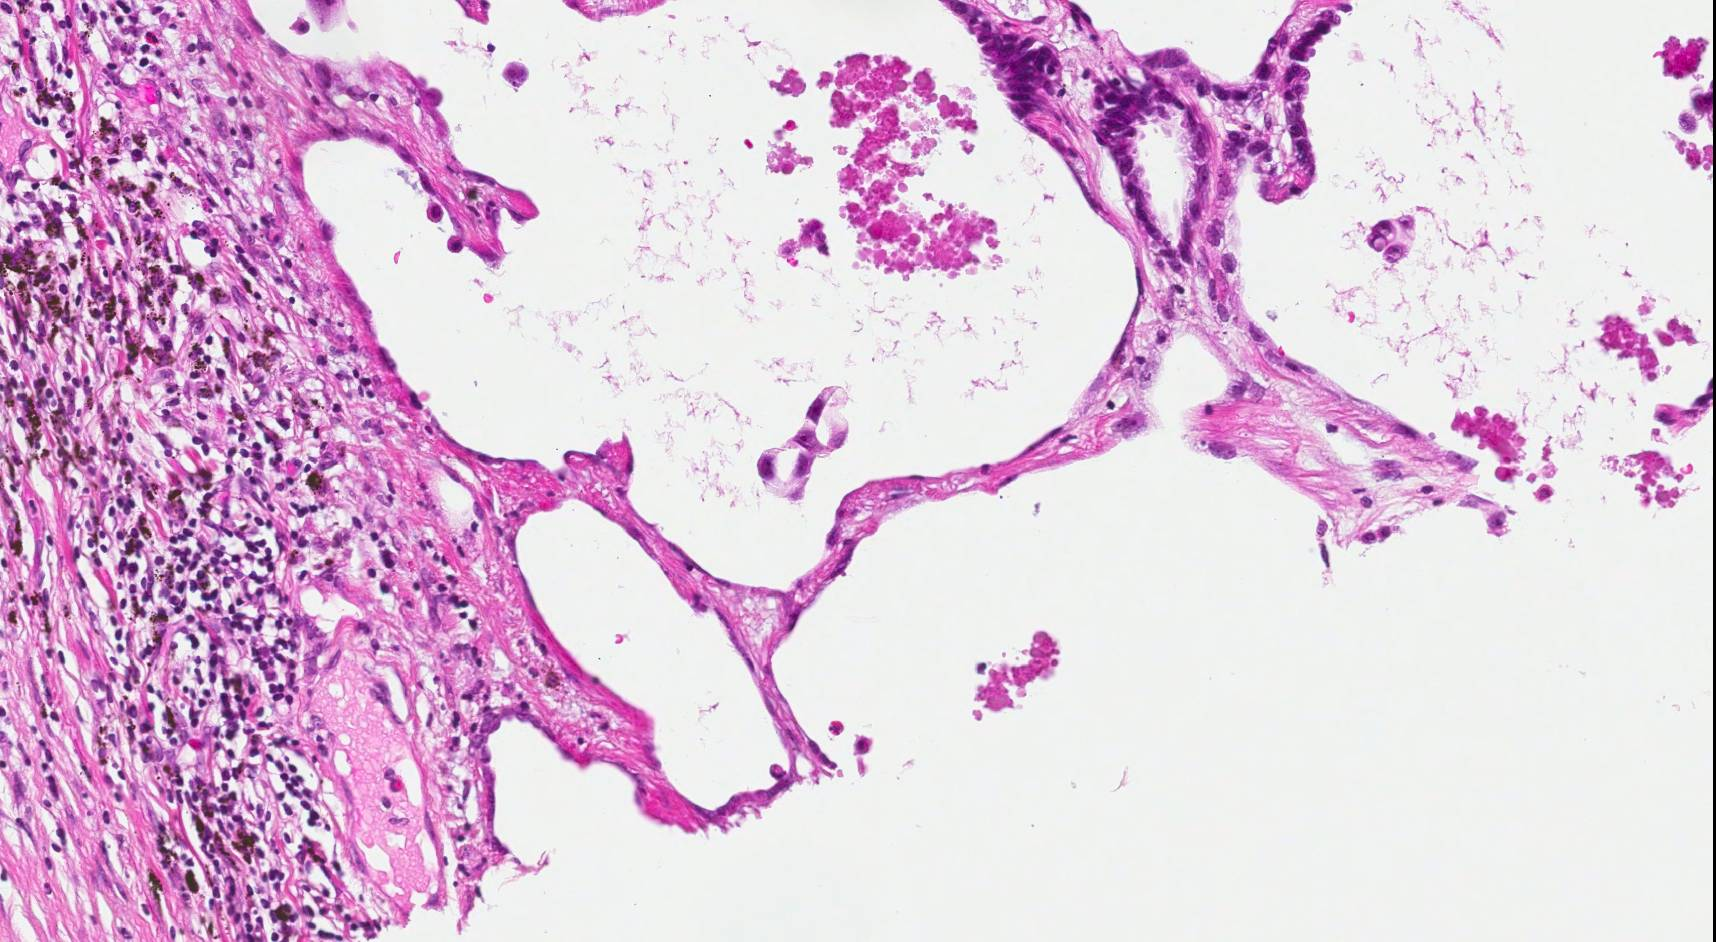stas: (757, 382, 854, 503), (1367, 210, 1418, 269)
